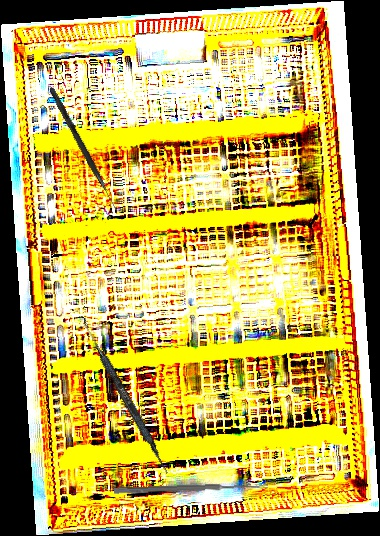Hook Surgical: (47, 86, 121, 213)
Spatula Surgical: (76, 317, 174, 475)
Surgical Spoon: (113, 482, 269, 495)
